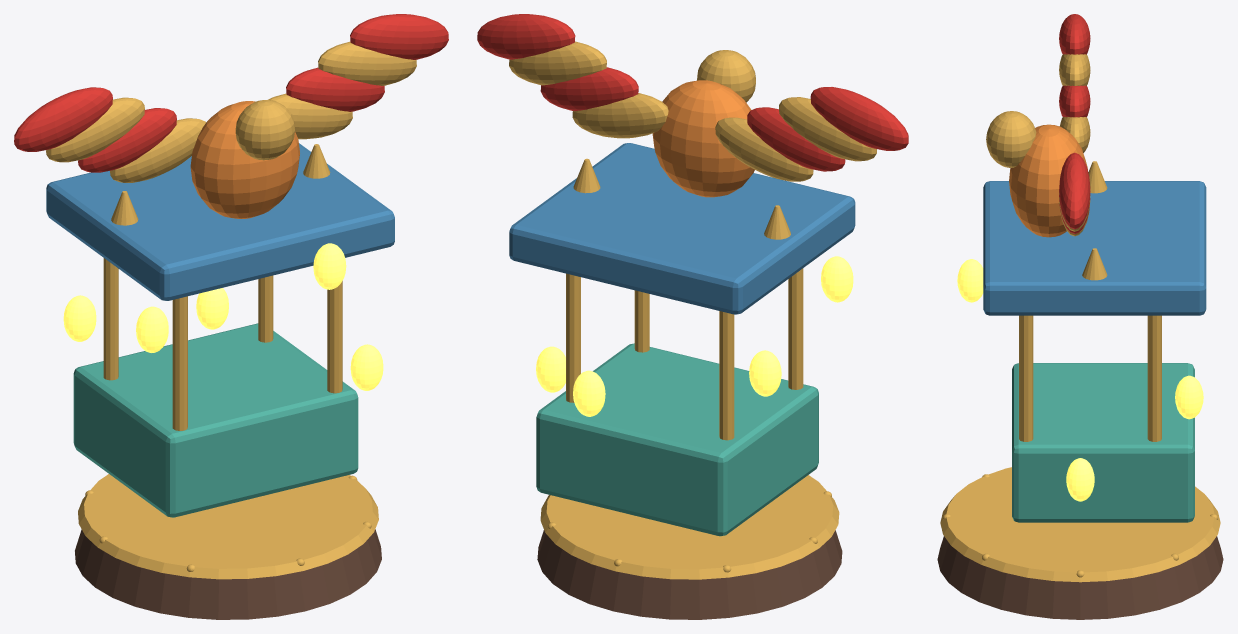
File: 10-phoenix-pavilion.glb
3 renders of one model, left to right at view 1: azimuth 30°, elevation 25°; view 2: azimuth 150°, elevation 25°; view 3: azimuth 270°, elevation 25°, orthographic. The views are drawn at different scales.
Parts seen in each view (by area): view 1: gold filigree rim, floating phoenix pavilion, glazed pavilion roof, layered phoenix feather.001, carved walnut plinth, phoenix core, floating spirit flame; view 2: gold filigree rim, floating phoenix pavilion, glazed pavilion roof, layered phoenix feather.001, carved walnut plinth, phoenix core, floating spirit flame; view 3: glazed pavilion roof, gold filigree rim, floating phoenix pavilion, carved walnut plinth, phoenix core, layered phoenix feather.001, floating spirit flame.
Boxes of the visible parts, <box> form: gold filigree rim: <box>46,41,416,579</box>; floating phoenix pavilion: <box>73,323,358,517</box>; glazed pavilion roof: <box>46,143,394,300</box>; layered phoenix feather.001: <box>14,14,448,172</box>; carved walnut plinth: <box>75,529,381,619</box>; phoenix core: <box>190,101,299,218</box>; floating spirit flame: <box>63,243,383,390</box>; gold filigree rim: <box>509,41,876,579</box>; floating phoenix pavilion: <box>536,343,818,536</box>; glazed pavilion roof: <box>509,143,855,314</box>; layered phoenix feather.001: <box>477,14,908,171</box>; carved walnut plinth: <box>537,530,842,619</box>; phoenix core: <box>652,80,754,197</box>; floating spirit flame: <box>536,256,853,416</box>; glazed pavilion roof: <box>983,181,1206,315</box>; gold filigree rim: <box>940,54,1220,582</box>; floating phoenix pavilion: <box>1012,363,1194,522</box>; carved walnut plinth: <box>937,536,1223,619</box>; phoenix core: <box>1009,124,1087,237</box>; layered phoenix feather.001: <box>1059,14,1090,233</box>; floating spirit flame: <box>957,259,1203,501</box>.
Bounding box in the file's own units: 1.63 × 1.8 × 1.
